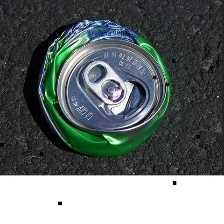can: (31, 16, 173, 160)
